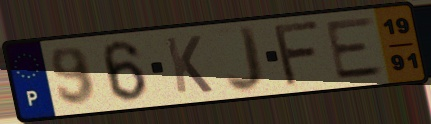6: (99, 37, 152, 105)
9: (48, 45, 98, 108)
E: (323, 14, 389, 83)
F: (272, 18, 325, 89)
J: (224, 24, 268, 95)
K: (162, 33, 216, 96)
